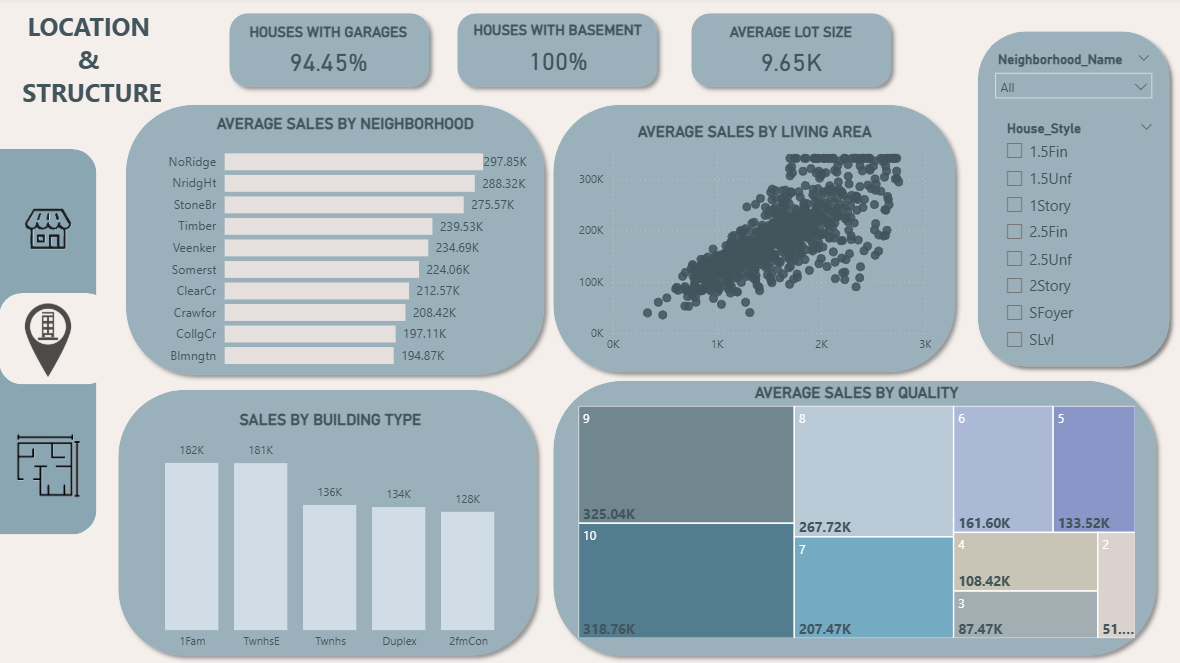

This screenshot's page, from the dashboard's own definition file:
{"tool":"powerbi","page":{"name":"LOCATION & STRUCTURE","canvas":[1280,720],"ordinal":1},"visuals":[{"type":"shape","box":[1048,29.3,224.9,379.8],"z":0},{"type":"textbox","box":[0,9.7,200.8,118.2],"z":1000},{"type":"shape","box":[127.9,108.5,469.6,309.3],"z":2000},{"type":"shape","box":[590,109.2,451.5,306.4],"z":3000},{"type":"shape","box":[239.4,10.4,233.5,97],"z":4000},{"type":"shape","box":[486.4,10.4,233.5,97],"z":5000},{"type":"shape","box":[738,10.4,233.5,97],"z":6000},{"type":"shape","box":[590,405.8,668.3,314.6],"z":7000},{"type":"shape","box":[0,165.2,105.2,416.1],"z":8000},{"type":"shape","box":[0,320.6,119.8,98.8],"z":9000},{"type":"image","box":[0,195.9,105.2,110.1],"z":12000},{"type":"barChart","title":"AVERAGE SALES BY NEIGHBORHOOD","fields":{"Category":["Real_State_Data.Neighborhood_Name"],"Y":["Avg(Real_State_Data.Sale_Price)"]},"box":[173.9,128.2,401,283.6],"z":13000},{"type":"scatterChart","title":"AVERAGE SALES BY LIVING AREA","fields":{"Y":["Avg(Real_State_Data.Sale_Price)"],"X":["Real_State_Data.Above_Ground_Living_Area"]},"box":[619.4,135.3,391.2,257.5],"z":14000},{"type":"treemap","title":"AVERAGE SALES BY QUALITY","fields":{"Group":["Real_State_Data.Overall_Quality"],"Values":["Avg(Real_State_Data.Sale_Price)"]},"box":[619.4,417.3,611.2,280.3],"z":15000},{"type":"card","title":"HOUSES WITH GARAGES","fields":{"Values":["Measure.% Houses with Garages"]},"box":[259.1,29.1,192.7,63.1],"z":16000},{"type":"card","title":"HOUSES WITH BASEMENT","fields":{"Values":["Measure.% Houses with Basement"]},"box":[502,27.5,202.4,64.8],"z":17000},{"type":"card","title":"AVERAGE LOT SIZE","fields":{"Values":["Measure.Average Lot Size"]},"box":[767.5,29.1,174.9,63.1],"z":18000},{"type":"shape","box":[120.6,415.6,469.4,304.8],"z":19000},{"type":"columnChart","title":"SALES BY BUILDING TYPE","fields":{"Category":["Real_State_Data.Building_Type"],"Y":["Avg(Real_State_Data.Sale_Price)"]},"box":[143.4,446.6,427,267.3],"z":20000},{"type":"slicer","fields":{"Values":["Real_State_Data.Neighborhood_Name"]},"box":[1065.5,55.1,189.4,72.9],"z":21000},{"type":"slicer","fields":{"Values":["Real_State_Data.House_Style"]},"box":[1075.7,128.8,182.5,259.2],"z":22000},{"type":"image","box":[3.2,331.9,98.8,79.3],"z":22001},{"type":"image","box":[3.2,459.9,100.4,93.9],"z":22002}]}

Visuals, with their boxes in screenshot pixels (x1, y1, x2, y2), scaled from the page's 1280x720 canvas onto the 1180x663 screenshot:
shape: box(966, 27, 1173, 377)
textbox: box(0, 9, 185, 118)
shape: box(118, 100, 551, 385)
shape: box(544, 101, 960, 383)
shape: box(221, 10, 436, 99)
shape: box(448, 10, 664, 99)
shape: box(680, 10, 896, 99)
shape: box(544, 374, 1160, 662)
shape: box(0, 152, 97, 535)
shape: box(0, 295, 110, 386)
image: box(0, 180, 97, 282)
"AVERAGE SALES BY NEIGHBORHOOD" barChart: box(160, 118, 530, 379)
"AVERAGE SALES BY LIVING AREA" scatterChart: box(571, 125, 932, 362)
"AVERAGE SALES BY QUALITY" treemap: box(571, 384, 1134, 642)
"HOUSES WITH GARAGES" card: box(239, 27, 417, 85)
"HOUSES WITH BASEMENT" card: box(463, 25, 649, 85)
"AVERAGE LOT SIZE" card: box(708, 27, 869, 85)
shape: box(111, 383, 544, 662)
"SALES BY BUILDING TYPE" columnChart: box(132, 411, 526, 657)
slicer - Real_State_Data.Neighborhood_Name: box(982, 51, 1157, 118)
slicer - Real_State_Data.House_Style: box(992, 119, 1160, 357)
image: box(3, 306, 94, 379)
image: box(3, 423, 96, 510)
